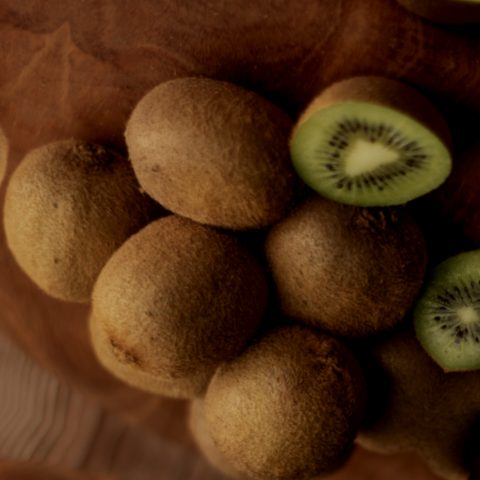kiwi: (85, 50, 349, 263), (64, 197, 306, 420), (235, 157, 469, 372), (0, 103, 182, 325), (178, 305, 401, 480)
